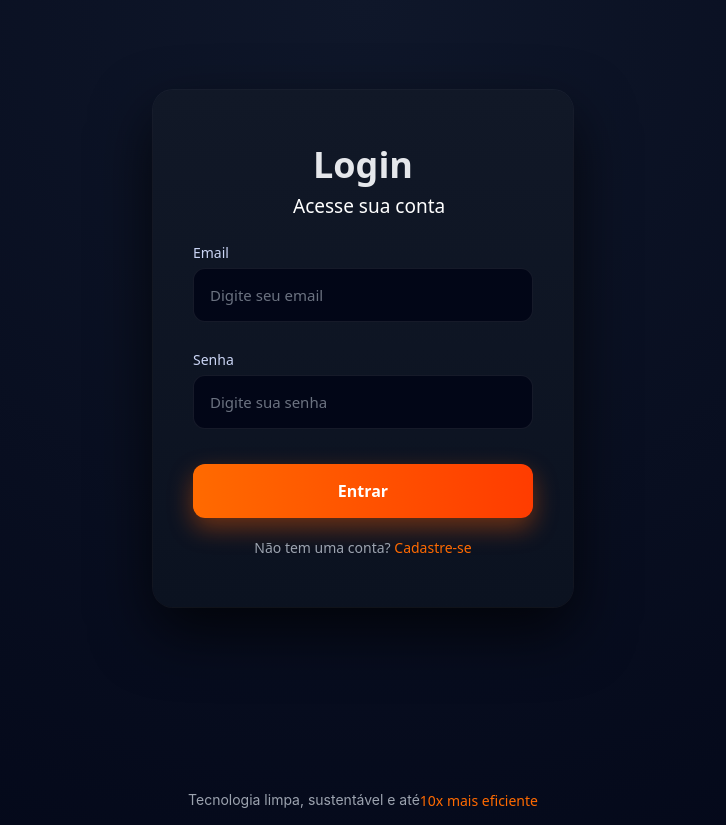
Test: Login › deve mostrar erro para senha curta
Type "teste@email.com" into the field with placeholder "Digite seu email" at (363, 295), box [193, 268, 533, 322]
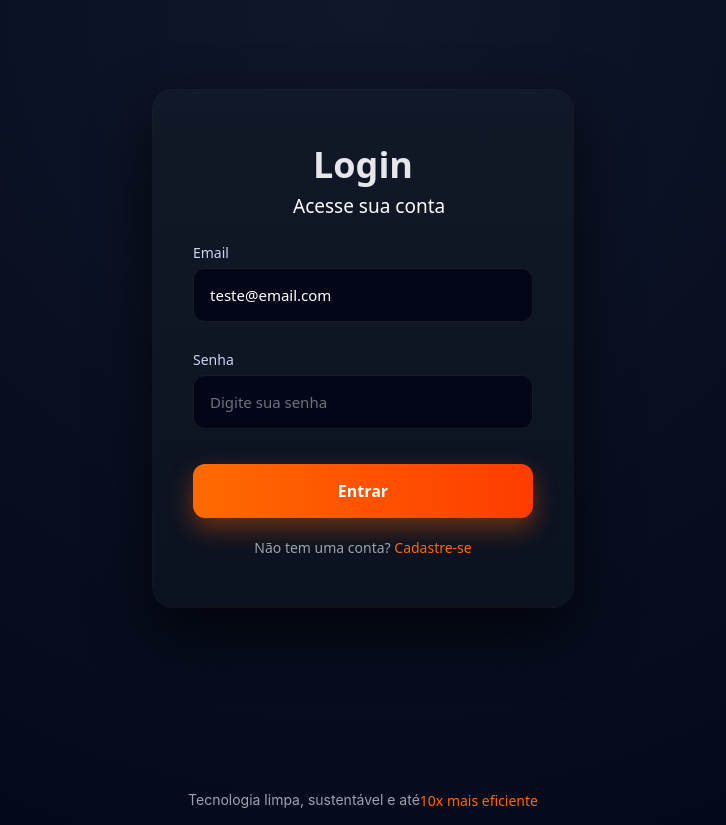
Type "123" into the password field with placeholder "Digite sua senha" at (363, 402), box [193, 375, 533, 429]
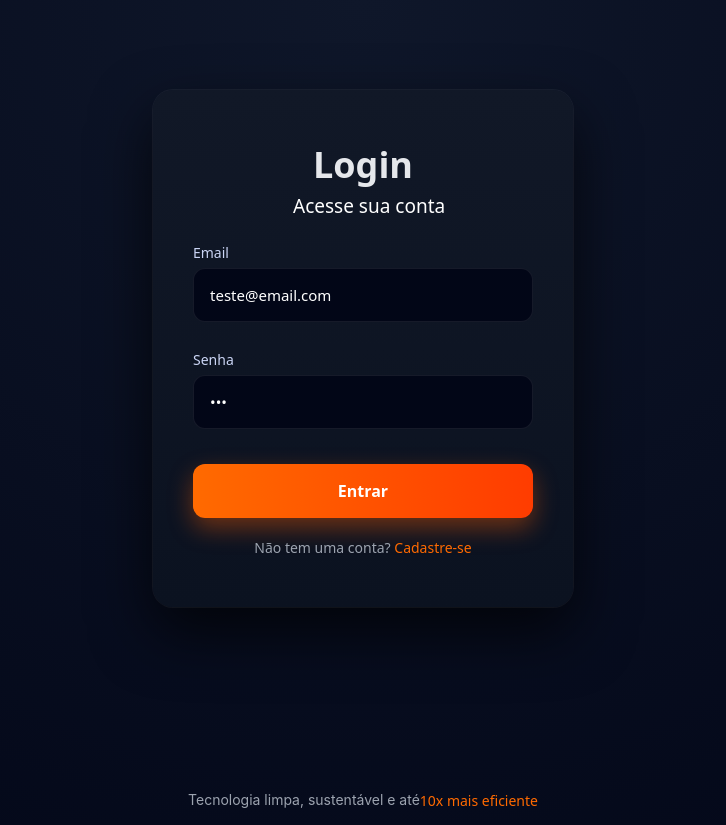
Click the button "Entrar" at (363, 491), box [193, 464, 533, 518]
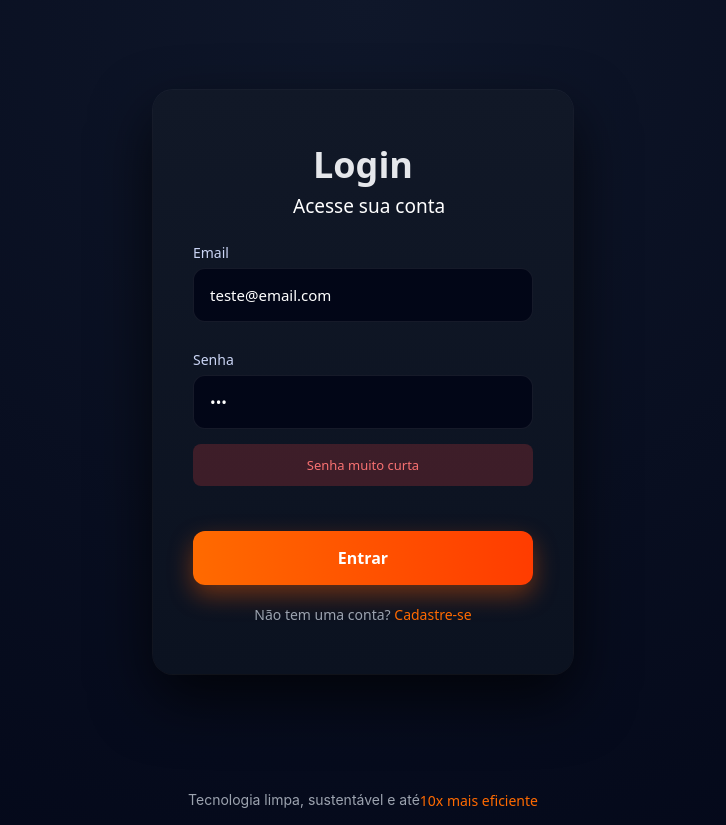
Expected: the text "Senha muito curta" is shown, [193, 444, 533, 486]
